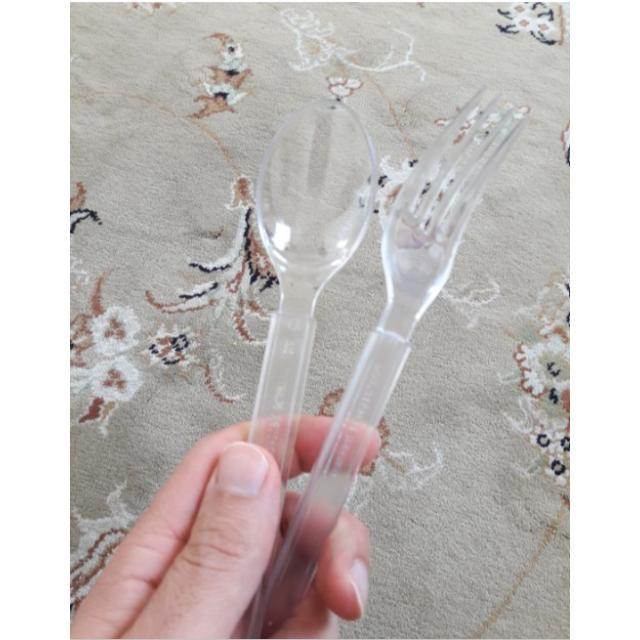Plastico descartable: (245, 90, 529, 637), (249, 100, 376, 482)
